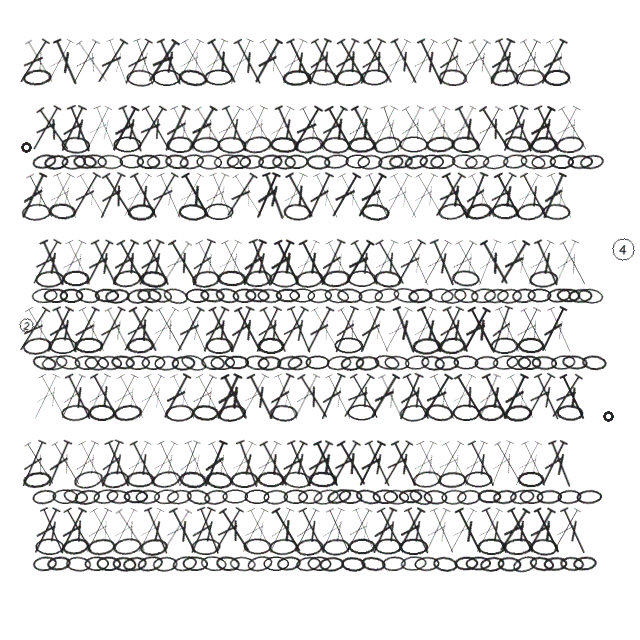chain: (72, 468, 105, 491), (177, 67, 208, 89), (294, 134, 325, 156), (372, 134, 403, 156), (489, 67, 520, 88), (242, 134, 273, 155), (502, 134, 533, 155), (437, 201, 468, 222), (515, 201, 546, 222), (112, 268, 143, 289), (424, 402, 455, 423), (151, 469, 182, 490), (112, 536, 143, 557), (179, 352, 208, 374), (464, 201, 494, 222), (100, 469, 130, 490), (61, 536, 91, 557), (294, 269, 325, 289), (112, 403, 143, 423), (216, 403, 247, 423), (86, 537, 117, 557), (294, 537, 325, 557), (407, 486, 435, 508), (511, 553, 539, 575), (360, 202, 390, 222), (191, 269, 221, 289), (373, 269, 403, 289), (22, 336, 52, 356), (22, 470, 52, 490), (204, 470, 234, 490), (282, 470, 312, 490), (139, 537, 169, 557), (515, 68, 546, 87), (325, 486, 353, 507), (139, 269, 168, 289), (22, 68, 52, 87), (308, 68, 338, 87), (334, 68, 364, 87), (438, 68, 468, 87), (425, 135, 455, 154), (555, 135, 585, 154), (243, 269, 273, 288), (321, 269, 351, 288), (412, 470, 442, 489), (503, 537, 533, 556), (312, 487, 340, 507), (354, 487, 382, 507), (21, 203, 52, 221), (529, 135, 558, 154), (48, 202, 77, 221), (451, 269, 480, 288), (126, 336, 155, 355), (438, 336, 467, 355), (477, 403, 506, 422), (178, 470, 207, 489), (269, 136, 299, 154), (403, 152, 430, 172), (269, 270, 299, 288), (162, 286, 189, 306), (31, 353, 58, 373), (399, 404, 429, 422), (185, 487, 212, 507), (373, 286, 401, 305), (392, 286, 420, 305), (54, 353, 82, 372), (373, 353, 401, 372), (92, 487, 120, 506), (136, 554, 164, 573), (246, 554, 274, 573), (126, 69, 155, 87), (282, 69, 311, 87), (61, 136, 90, 154), (217, 136, 246, 154), (347, 136, 376, 154), (178, 203, 207, 221), (542, 203, 571, 221), (35, 270, 64, 288), (529, 270, 558, 288), (412, 337, 441, 355), (61, 404, 90, 422), (165, 404, 194, 422), (191, 404, 220, 422), (269, 404, 298, 422), (438, 471, 467, 489), (269, 538, 298, 556), (31, 152, 58, 171), (178, 152, 205, 171), (74, 286, 101, 305), (146, 286, 173, 305), (214, 286, 241, 305), (286, 353, 313, 372), (62, 487, 89, 506), (171, 554, 198, 573), (204, 203, 234, 220), (347, 270, 377, 287), (191, 538, 221, 555), (192, 136, 220, 154), (322, 136, 350, 154), (519, 153, 547, 171), (127, 203, 155, 221), (283, 203, 311, 221), (504, 404, 532, 422), (556, 404, 584, 422), (73, 488, 101, 506), (322, 538, 350, 556), (530, 538, 558, 556), (152, 69, 181, 86), (204, 69, 233, 86), (360, 69, 389, 86), (113, 136, 142, 153), (399, 136, 428, 153), (451, 136, 480, 153), (217, 270, 246, 287), (48, 337, 77, 354), (74, 337, 103, 354), (334, 337, 363, 354), (490, 337, 519, 354), (347, 404, 376, 421), (126, 471, 155, 488), (230, 471, 259, 488), (308, 471, 337, 488), (464, 471, 493, 488), (35, 538, 64, 555), (243, 538, 272, 555), (399, 538, 428, 555), (477, 538, 506, 555), (377, 153, 404, 171), (482, 153, 509, 171), (323, 287, 350, 305), (440, 287, 467, 305), (483, 287, 510, 305), (577, 287, 604, 305), (41, 354, 68, 372), (276, 354, 303, 372), (339, 354, 366, 372), (31, 488, 58, 506), (166, 488, 193, 506), (295, 555, 322, 573), (528, 555, 555, 573), (543, 69, 571, 86), (166, 136, 194, 153), (491, 203, 519, 220), (62, 270, 90, 287), (205, 337, 233, 354), (257, 337, 285, 354), (517, 337, 545, 354), (88, 404, 116, 421), (452, 404, 480, 421), (257, 471, 285, 488), (517, 471, 545, 488), (348, 538, 376, 555), (374, 538, 402, 555), (43, 153, 69, 171), (464, 153, 490, 171), (579, 153, 605, 171), (104, 287, 130, 305), (126, 287, 152, 305), (326, 354, 352, 372), (420, 354, 446, 372), (203, 488, 229, 506), (456, 488, 482, 506), (492, 488, 518, 506), (509, 488, 535, 506), (122, 555, 148, 573), (360, 555, 386, 573), (432, 555, 458, 573), (479, 555, 505, 573), (146, 153, 173, 170), (213, 153, 240, 170), (323, 153, 350, 170), (429, 153, 456, 170), (451, 153, 478, 170), (31, 287, 58, 304), (336, 287, 363, 304), (470, 287, 497, 304), (492, 354, 519, 371), (561, 354, 588, 371), (153, 488, 180, 505), (200, 555, 227, 572), (400, 555, 427, 572), (82, 153, 108, 170), (164, 153, 190, 170), (257, 153, 283, 170), (388, 153, 414, 170), (502, 153, 528, 170), (136, 287, 162, 304), (199, 287, 225, 304), (244, 287, 270, 304), (407, 287, 433, 304), (428, 287, 454, 304), (453, 287, 479, 304), (511, 287, 537, 304), (546, 287, 572, 304), (110, 354, 136, 371), (200, 354, 226, 371), (244, 354, 270, 371), (404, 354, 430, 371), (550, 354, 576, 371), (581, 354, 607, 371), (297, 488, 323, 505), (32, 555, 58, 572), (46, 555, 72, 572), (215, 555, 241, 572), (276, 555, 302, 572), (381, 555, 407, 572), (572, 555, 598, 572), (496, 288, 523, 304), (65, 556, 92, 572), (229, 556, 256, 572), (72, 154, 98, 170), (97, 154, 123, 170), (196, 154, 222, 170), (271, 154, 297, 170), (357, 154, 383, 170), (567, 154, 593, 170), (384, 355, 410, 371), (531, 355, 557, 371), (383, 489, 409, 505), (441, 489, 467, 505), (536, 489, 562, 505), (576, 489, 602, 505), (152, 556, 178, 572), (340, 556, 366, 572), (414, 556, 440, 572), (559, 556, 585, 572), (61, 154, 86, 170), (239, 154, 264, 170), (306, 154, 331, 170), (531, 154, 556, 170), (257, 288, 282, 304), (307, 288, 332, 304), (358, 288, 383, 304), (568, 288, 593, 304), (84, 355, 109, 371), (97, 355, 122, 371), (154, 355, 179, 371), (171, 355, 196, 371), (257, 355, 282, 371), (355, 355, 380, 371), (434, 355, 459, 371), (474, 355, 499, 371), (106, 489, 131, 505), (135, 489, 160, 505), (263, 489, 288, 505), (423, 489, 448, 505), (557, 489, 582, 505), (112, 556, 137, 572), (319, 556, 344, 572), (497, 556, 522, 572), (543, 556, 568, 572), (289, 288, 315, 303), (453, 355, 479, 370), (52, 489, 78, 504), (222, 489, 248, 504), (244, 489, 270, 504), (372, 489, 398, 504), (182, 556, 208, 571), (263, 556, 289, 571), (465, 556, 491, 571), (119, 154, 144, 169), (136, 154, 161, 169), (226, 154, 251, 169), (284, 154, 309, 169), (345, 154, 370, 169), (419, 154, 444, 169), (549, 154, 574, 169), (43, 288, 68, 303), (59, 288, 84, 303), (94, 288, 119, 303), (185, 288, 210, 303), (232, 288, 257, 303), (275, 288, 300, 303), (527, 288, 552, 303), (556, 288, 581, 303), (74, 355, 99, 370), (125, 355, 150, 370), (141, 355, 166, 370), (210, 355, 235, 370), (224, 355, 249, 370), (305, 355, 330, 370), (506, 355, 531, 370), (517, 355, 542, 370), (123, 489, 148, 504), (283, 489, 308, 504), (338, 489, 363, 504), (398, 489, 423, 504), (477, 489, 502, 504), (519, 489, 544, 504), (84, 556, 109, 571), (96, 556, 121, 571), (307, 556, 332, 571), (454, 556, 479, 571)
double: (33, 104, 75, 154), (142, 36, 183, 87), (475, 103, 516, 154), (98, 170, 139, 221), (220, 170, 261, 221), (228, 170, 269, 221), (337, 371, 378, 422), (545, 371, 586, 422), (20, 438, 61, 489), (111, 505, 152, 556), (215, 505, 256, 556), (493, 505, 534, 556), (72, 37, 114, 86), (13, 36, 53, 87), (91, 36, 131, 87), (333, 36, 373, 87), (455, 36, 495, 87), (130, 103, 170, 154), (190, 103, 230, 154), (208, 103, 248, 154), (286, 103, 326, 154), (398, 103, 438, 154), (554, 103, 594, 154), (429, 170, 469, 221), (164, 237, 204, 288), (338, 237, 378, 288), (13, 304, 53, 355), (21, 304, 61, 355), (143, 304, 183, 355), (294, 371, 334, 422), (364, 371, 404, 422), (416, 371, 456, 422), (47, 438, 87, 489), (377, 438, 417, 489), (156, 238, 196, 288), (156, 506, 196, 556), (21, 36, 60, 87), (177, 36, 216, 87), (255, 36, 294, 87), (307, 36, 346, 87), (26, 103, 65, 154), (138, 103, 177, 154), (182, 103, 221, 154), (242, 103, 281, 154), (312, 103, 351, 154), (65, 170, 104, 221), (73, 170, 112, 221), (117, 170, 156, 221), (143, 170, 182, 221), (177, 170, 216, 221), (325, 170, 364, 221), (351, 170, 390, 221), (411, 170, 450, 221), (481, 170, 520, 221), (26, 237, 65, 288), (372, 237, 411, 288), (390, 237, 429, 288), (476, 237, 515, 288), (494, 237, 533, 288), (117, 304, 156, 355), (125, 304, 164, 355), (151, 304, 190, 355), (273, 304, 312, 355), (307, 304, 346, 355), (333, 304, 372, 355), (34, 371, 73, 422), (86, 371, 125, 422), (234, 371, 273, 422), (346, 371, 385, 422), (520, 371, 559, 422), (325, 438, 364, 489), (333, 438, 372, 489), (429, 438, 468, 489), (60, 505, 99, 556), (86, 505, 125, 556), (208, 505, 247, 556), (268, 505, 307, 556), (546, 505, 585, 556), (40, 36, 78, 88), (66, 36, 104, 88), (118, 36, 156, 88), (170, 36, 208, 88), (230, 36, 268, 88), (404, 36, 442, 88), (438, 36, 476, 88), (464, 36, 502, 88), (105, 103, 143, 155), (321, 103, 359, 155), (469, 103, 507, 155), (521, 103, 559, 155), (22, 170, 60, 222), (40, 170, 78, 222), (126, 170, 164, 222), (170, 170, 208, 222), (334, 170, 372, 222), (378, 170, 416, 222), (386, 170, 424, 222), (404, 170, 442, 222), (464, 170, 502, 222), (508, 170, 546, 222), (516, 170, 554, 222), (79, 237, 117, 289), (113, 237, 151, 289), (191, 237, 229, 289), (321, 237, 359, 289), (347, 237, 385, 289), (443, 237, 481, 289), (451, 237, 489, 289), (555, 237, 593, 289), (74, 304, 112, 356), (170, 304, 208, 356), (230, 304, 268, 356), (300, 304, 338, 356), (378, 304, 416, 356), (456, 304, 494, 356), (516, 304, 554, 356), (113, 371, 151, 423), (131, 371, 169, 423), (183, 371, 221, 423), (191, 371, 229, 423), (503, 371, 541, 423), (144, 438, 182, 490), (222, 438, 260, 490), (256, 438, 294, 490), (438, 438, 476, 490), (508, 438, 546, 490), (165, 505, 203, 557), (373, 505, 411, 557), (443, 505, 481, 557), (469, 505, 507, 557), (521, 505, 559, 557), (204, 36, 242, 87), (248, 36, 286, 87), (360, 36, 398, 87), (425, 103, 463, 154), (417, 237, 455, 288), (451, 371, 489, 422), (490, 438, 528, 489), (282, 36, 319, 88), (378, 36, 415, 88), (534, 36, 571, 88), (542, 36, 579, 88), (79, 103, 116, 155), (261, 103, 298, 155), (295, 103, 332, 155), (365, 103, 402, 155), (417, 103, 454, 155), (451, 103, 488, 155), (547, 103, 584, 155), (438, 170, 475, 222), (490, 170, 527, 222), (53, 237, 90, 289), (61, 237, 98, 289), (87, 237, 124, 289), (105, 237, 142, 289), (139, 237, 176, 289), (209, 237, 246, 289), (217, 237, 254, 289), (295, 237, 332, 289), (521, 237, 558, 289), (40, 304, 77, 356), (66, 304, 103, 356), (92, 304, 129, 356), (100, 304, 137, 356), (196, 304, 233, 356), (256, 304, 293, 356), (508, 304, 545, 356), (27, 371, 64, 423), (61, 371, 98, 423), (105, 371, 142, 423), (217, 371, 254, 423), (243, 371, 280, 423), (321, 371, 358, 423), (399, 371, 436, 423), (443, 371, 480, 423), (74, 438, 111, 490), (126, 438, 163, 490), (204, 438, 241, 490), (248, 438, 285, 490), (274, 438, 311, 490), (300, 438, 337, 490), (352, 438, 389, 490), (412, 438, 449, 490), (464, 438, 501, 490), (27, 505, 64, 557), (53, 505, 90, 557), (79, 505, 116, 557), (105, 505, 142, 557), (131, 505, 168, 557), (235, 505, 272, 557), (243, 505, 280, 557), (287, 505, 324, 557), (295, 505, 332, 557), (451, 505, 488, 557), (516, 36, 553, 87), (347, 103, 384, 154), (282, 170, 319, 221), (464, 304, 501, 355), (157, 371, 194, 422), (339, 505, 376, 556), (391, 505, 428, 556), (275, 36, 311, 88), (327, 36, 363, 88), (353, 36, 389, 88), (413, 36, 449, 88), (483, 36, 519, 88), (509, 36, 545, 88), (54, 103, 90, 155), (158, 103, 194, 155), (166, 103, 202, 155), (218, 103, 254, 155), (236, 103, 272, 155), (340, 103, 376, 155), (496, 103, 532, 155), (530, 103, 566, 155), (15, 170, 51, 222), (93, 170, 129, 222), (197, 170, 233, 222), (275, 170, 311, 222), (301, 170, 337, 222), (309, 170, 345, 222), (543, 170, 579, 222), (132, 237, 168, 289), (262, 237, 298, 289), (270, 237, 306, 289), (288, 237, 324, 289), (366, 237, 402, 289), (400, 237, 436, 289), (504, 237, 540, 289), (249, 304, 285, 356), (413, 304, 449, 356), (431, 304, 467, 356), (439, 304, 475, 356), (54, 371, 90, 423), (140, 371, 176, 423), (166, 371, 202, 423), (210, 371, 246, 423), (262, 371, 298, 423), (374, 371, 410, 423), (426, 371, 462, 423), (478, 371, 514, 423), (496, 371, 532, 423), (530, 371, 566, 423), (67, 438, 103, 490), (119, 438, 155, 490), (309, 438, 345, 490), (361, 438, 397, 490), (387, 438, 423, 490), (405, 438, 441, 490), (517, 438, 553, 490), (262, 505, 298, 557), (400, 505, 436, 557), (418, 505, 454, 557), (478, 505, 514, 557), (556, 505, 592, 557), (387, 36, 423, 87), (392, 103, 428, 154), (444, 103, 480, 154), (535, 304, 571, 355), (288, 371, 324, 422), (535, 438, 571, 489), (504, 505, 540, 556), (530, 505, 566, 556), (49, 36, 84, 88), (153, 36, 188, 88), (197, 36, 232, 88), (223, 36, 258, 88), (491, 36, 526, 88), (49, 170, 84, 222), (153, 170, 188, 222), (205, 170, 240, 222), (361, 170, 396, 222), (36, 237, 71, 289), (236, 237, 271, 289), (314, 237, 349, 289), (426, 237, 461, 289), (530, 237, 565, 289), (548, 237, 583, 289), (49, 304, 84, 356), (179, 304, 214, 356), (205, 304, 240, 356), (223, 304, 258, 356), (283, 304, 318, 356), (353, 304, 388, 356), (361, 304, 396, 356), (405, 304, 440, 356), (491, 304, 526, 356), (543, 304, 578, 356), (80, 371, 115, 423), (270, 371, 305, 423), (314, 371, 349, 423), (392, 371, 427, 423), (556, 371, 591, 423), (15, 438, 50, 490), (41, 438, 76, 490), (101, 438, 136, 490), (153, 438, 188, 490), (283, 438, 318, 490), (457, 438, 492, 490), (36, 505, 71, 557), (140, 505, 175, 557), (184, 505, 219, 557), (314, 505, 349, 557), (322, 505, 357, 557), (348, 505, 383, 557), (366, 505, 401, 557), (426, 505, 461, 557), (432, 36, 466, 88), (63, 103, 97, 155), (89, 103, 123, 155), (115, 103, 149, 155), (271, 103, 305, 155), (505, 103, 539, 155), (250, 170, 284, 222), (458, 170, 492, 222), (536, 170, 570, 222), (185, 237, 219, 289), (471, 237, 505, 289), (328, 304, 362, 356), (471, 371, 505, 423), (180, 438, 214, 490), (484, 438, 518, 490), (544, 438, 578, 490), (102, 36, 135, 88), (302, 36, 335, 88), (258, 170, 291, 222), (245, 237, 278, 289), (94, 438, 127, 490), (172, 438, 205, 490), (198, 438, 231, 490), (232, 438, 265, 490), (193, 505, 226, 557), (129, 36, 161, 88), (389, 304, 421, 356), (485, 304, 517, 356), (376, 103, 407, 155)
noise: (609, 235, 637, 263), (16, 315, 37, 336), (19, 140, 33, 154), (602, 410, 615, 423)
